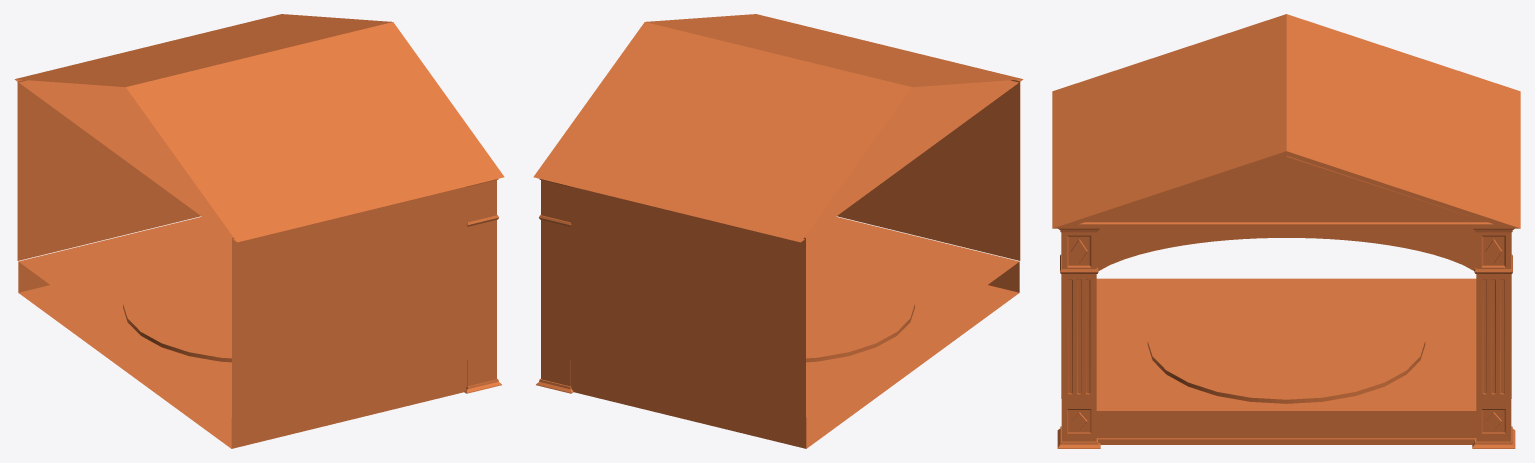
The picture shows the model from 3 angles, left to right: view 1: azimuth 30°, elevation 25°; view 2: azimuth 150°, elevation 25°; view 3: azimuth 270°, elevation 25°; orthographic projection. The views are drawn at different scales.
Parts seen in each view (by area): view 1: Scene, Platform; view 2: Scene, Platform; view 3: Scene, Platform.
Boxes of the visible parts, left/top/right/bottom form: Scene: left=14, top=14, right=504, bottom=448; Platform: left=123, top=249, right=231, bottom=362; Scene: left=533, top=14, right=1023, bottom=448; Platform: left=806, top=249, right=914, bottom=362; Scene: left=1052, top=14, right=1520, bottom=448; Platform: left=1147, top=282, right=1425, bottom=403.
Size of the model in its own units: 891 by 900 by 1283.
